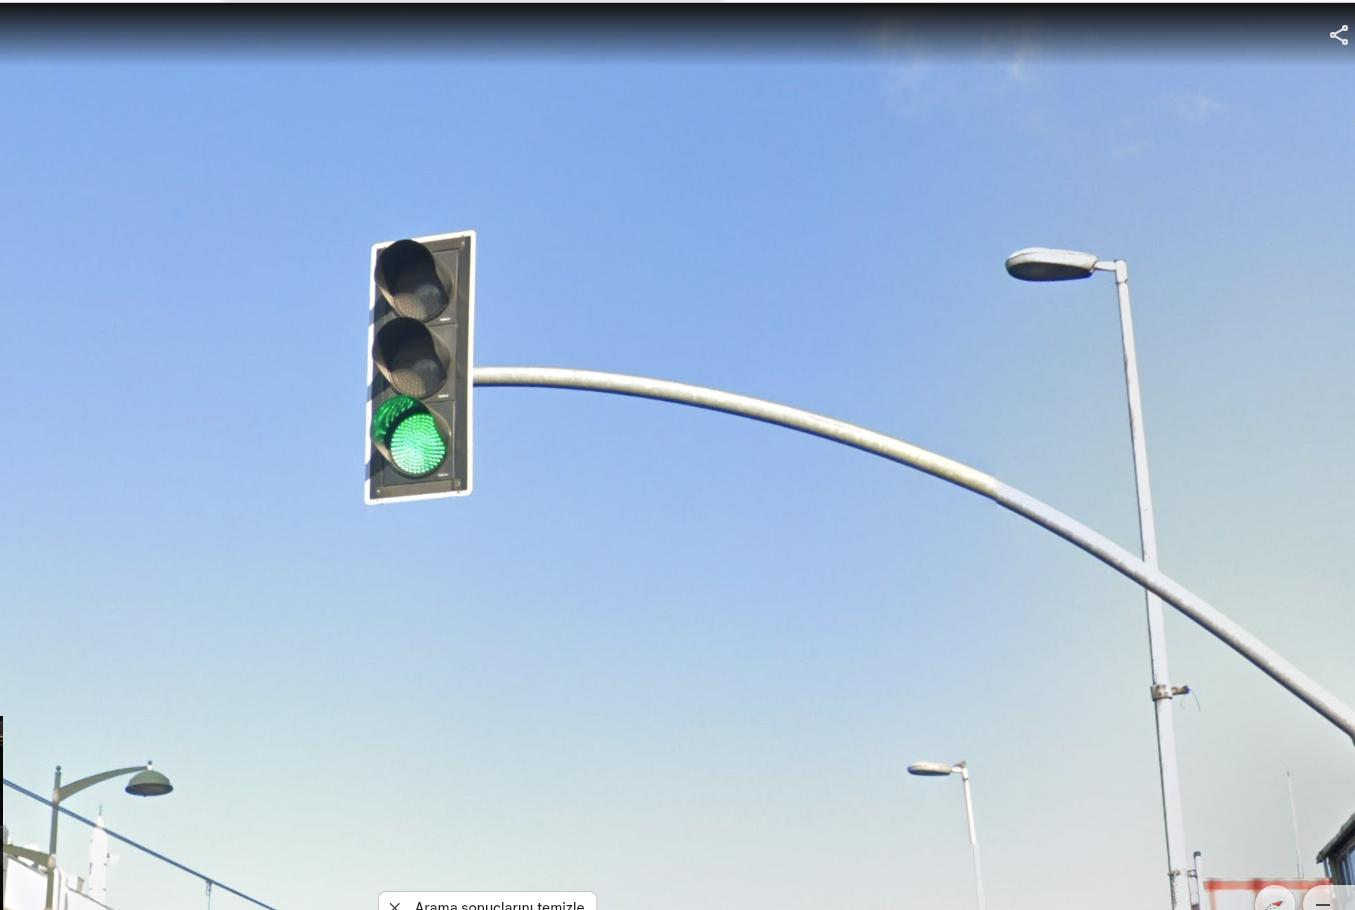greenlight: (372, 244, 457, 475)
